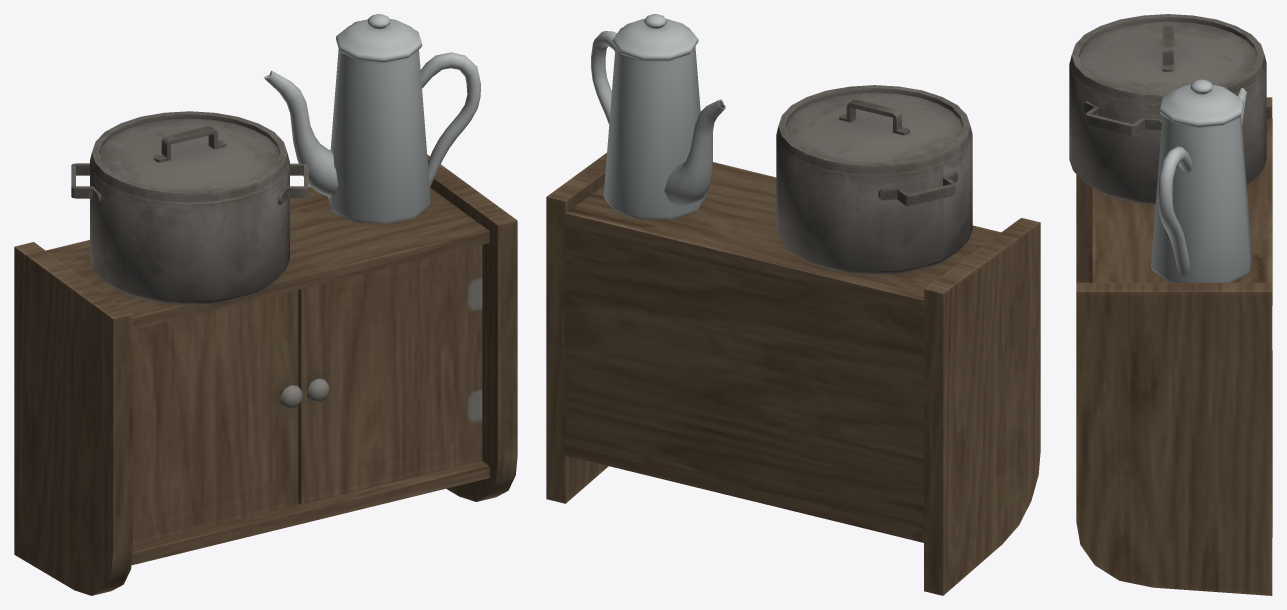
Rendered from sb_obj_indoor021_WallShalf01a.fbx.
The picture shows the model from 3 angles, left to right: view 1: azimuth 30°, elevation 25°; view 2: azimuth 150°, elevation 25°; view 3: azimuth 270°, elevation 25°; orthographic projection.
Visible parts, largest first — view 1: sb_obj_indoor021_WallShalf01a; view 2: sb_obj_indoor021_WallShalf01a; view 3: sb_obj_indoor021_WallShalf01a.
Part boxes in pixels (x1,y1,x2,y2): sb_obj_indoor021_WallShalf01a: (14,14,517,595); sb_obj_indoor021_WallShalf01a: (546,14,1040,595); sb_obj_indoor021_WallShalf01a: (1069,14,1272,595).
Size of the model in its own units: 0.7335 by 0.8253 by 0.3178.
